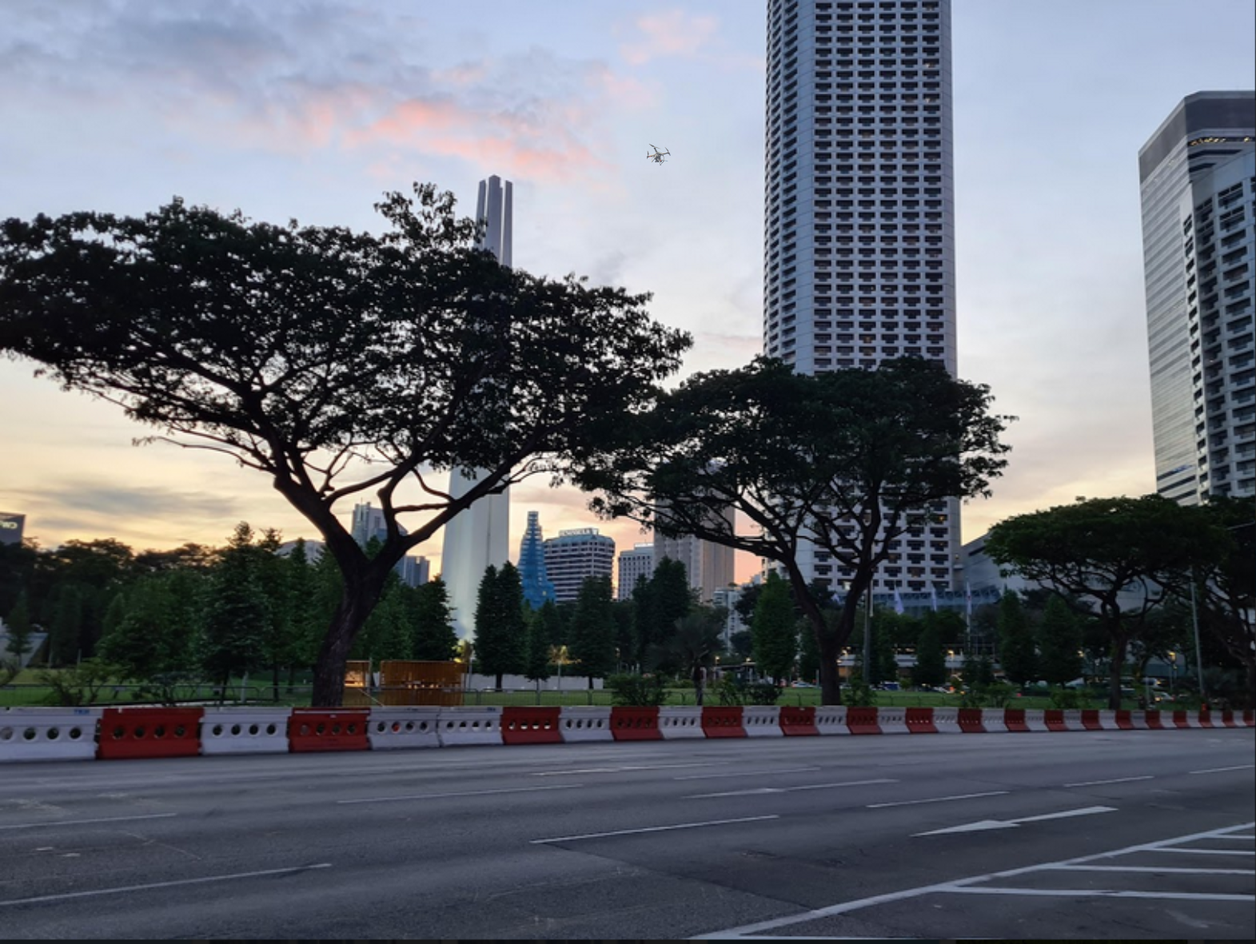drone_other: (645, 142, 672, 166)
